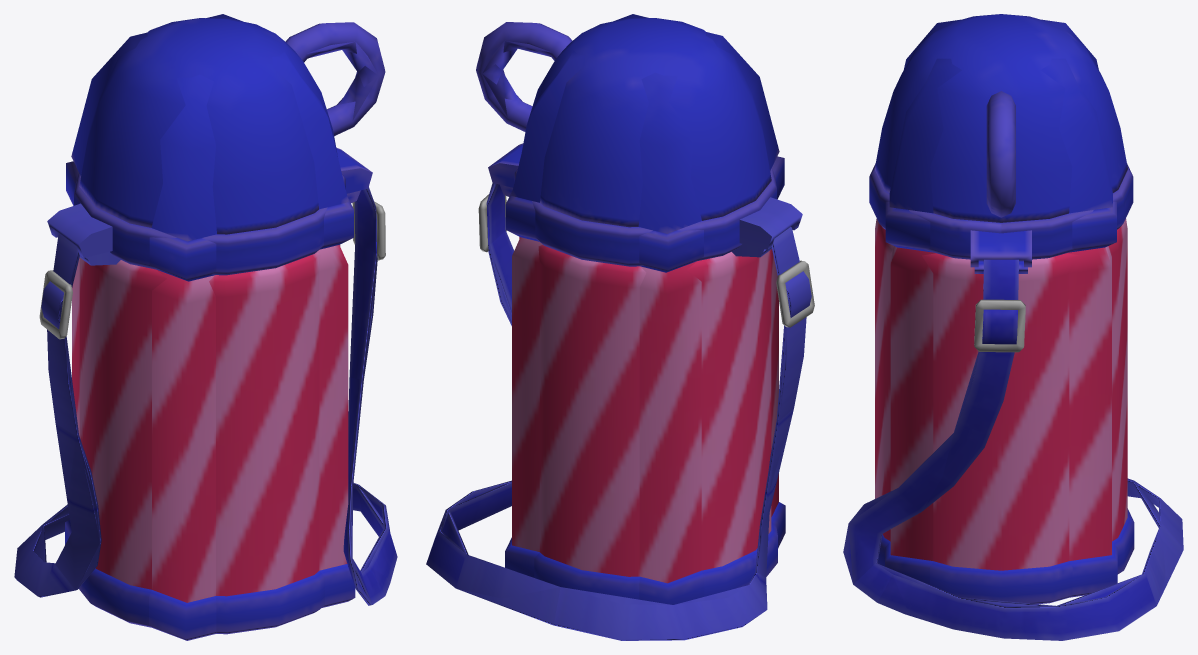
File: pi_waterbottle02_02.gltf
3 renders of one model, left to right at view 1: azimuth 30°, elevation 25°; view 2: azimuth 150°, elevation 25°; view 3: azimuth 270°, elevation 25°, orthographic. The views are drawn at different scales.
Parts seen in each view (by area): view 1: um_pi_waterbottle02_02_model_lod0Shape:pi_waterbottle02_02_b, um_pi_waterbottle02_02_model_lod2Shape:pi_waterbottle02_02_b, um_pi_waterbottle02_02_model_lod1Shape:pi_waterbottle02_02_b; view 2: um_pi_waterbottle02_02_model_lod0Shape:pi_waterbottle02_02_b, um_pi_waterbottle02_02_model_lod2Shape:pi_waterbottle02_02_b, um_pi_waterbottle02_02_model_lod1Shape:pi_waterbottle02_02_b; view 3: um_pi_waterbottle02_02_model_lod0Shape:pi_waterbottle02_02_b, um_pi_waterbottle02_02_model_lod2Shape:pi_waterbottle02_02_b, um_pi_waterbottle02_02_model_lod1Shape:pi_waterbottle02_02_b.
Boxes of the visible parts, x1,y1,x2,y2 form: um_pi_waterbottle02_02_model_lod0Shape:pi_waterbottle02_02_b: (14, 18, 397, 634); um_pi_waterbottle02_02_model_lod2Shape:pi_waterbottle02_02_b: (34, 14, 388, 640); um_pi_waterbottle02_02_model_lod1Shape:pi_waterbottle02_02_b: (55, 210, 396, 595); um_pi_waterbottle02_02_model_lod0Shape:pi_waterbottle02_02_b: (426, 18, 814, 640); um_pi_waterbottle02_02_model_lod2Shape:pi_waterbottle02_02_b: (442, 14, 793, 604); um_pi_waterbottle02_02_model_lod1Shape:pi_waterbottle02_02_b: (457, 201, 793, 624); um_pi_waterbottle02_02_model_lod0Shape:pi_waterbottle02_02_b: (843, 14, 1183, 640); um_pi_waterbottle02_02_model_lod2Shape:pi_waterbottle02_02_b: (848, 19, 1161, 606); um_pi_waterbottle02_02_model_lod1Shape:pi_waterbottle02_02_b: (877, 170, 1183, 628).
Size of the model in its own units: 0.2159 by 0.3218 by 0.1898.
1 material, 1 textured.
